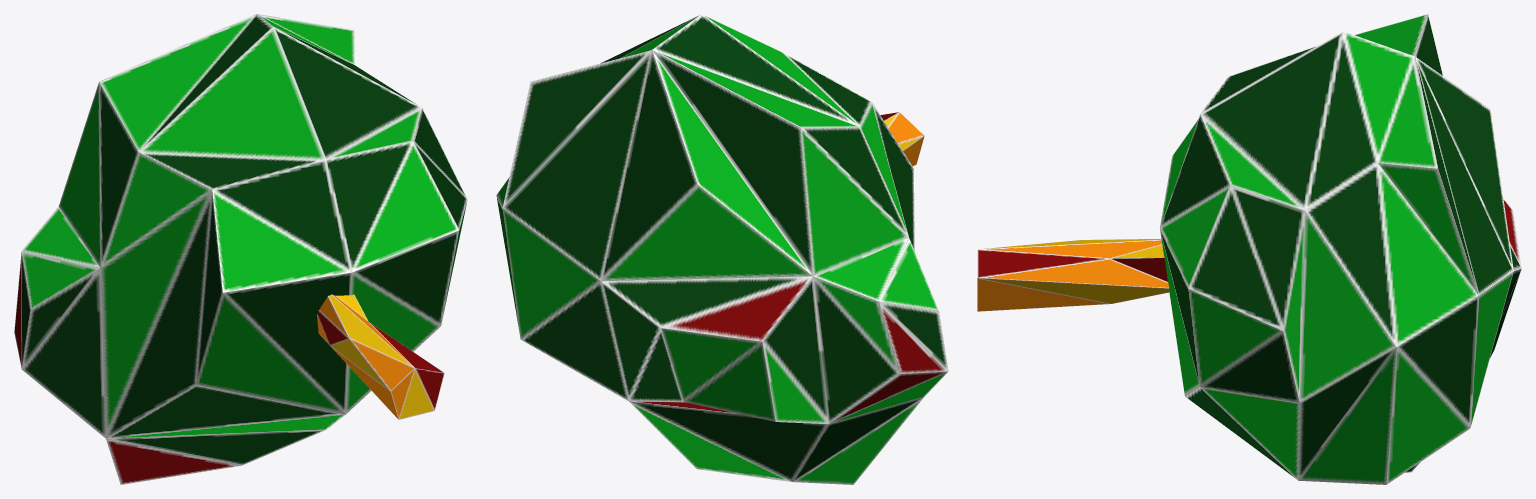
Rendered from tree.FBX.
3 views of the same model, side by side, from view 1: azimuth 30°, elevation 25°; view 2: azimuth 150°, elevation 25°; view 3: azimuth 270°, elevation 25° (orthographic). The views are drawn at different scales.
Visible parts, largest first — view 1: crown_001; view 2: crown_001; view 3: crown_001.
Part boxes in pixels (x1=…): crown_001: x1=14, y1=14, x2=467, y2=484; crown_001: x1=496, y1=14, x2=948, y2=484; crown_001: x1=977, y1=14, x2=1521, y2=484.
Size of the model in its own units: 10.12 by 9.75 by 10.32.
1 material, 1 textured.
